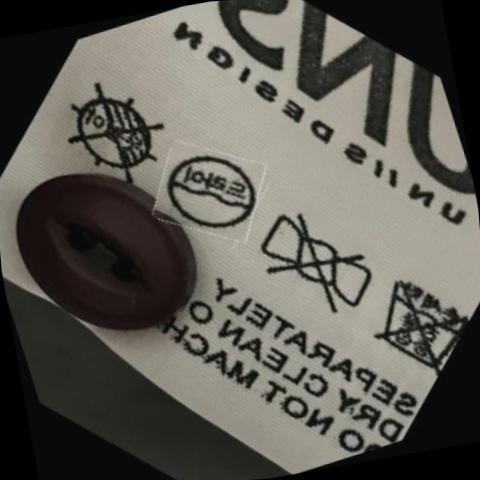DN_dry: (55, 72, 176, 194)
DN_wring: (249, 198, 385, 333)
dry_clean: (156, 137, 265, 249)
hand_wash: (358, 259, 474, 382)
